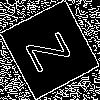Z: (25, 24, 81, 74)
